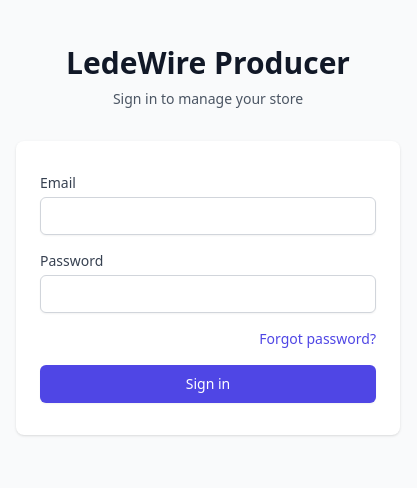
LoginForm email/password login › shows the API error message on a 403 (no merchant role)
Type "a@b.com" into the field labelled "Email" at (208, 216), box [40, 197, 376, 235]
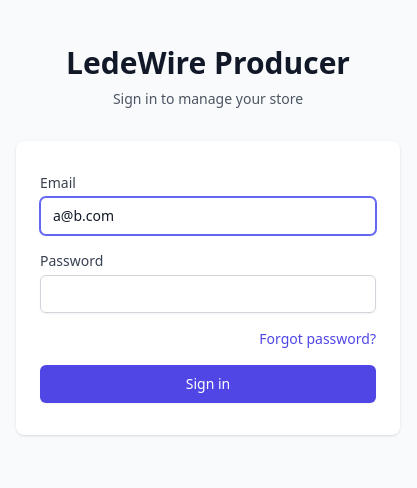
Type "secret" into the password field labelled "Password" at (208, 294), box [40, 275, 376, 313]
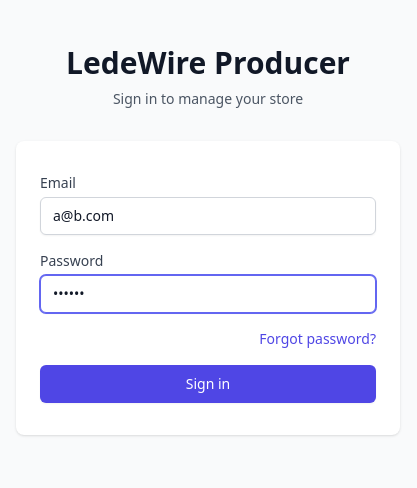
Click the button "Sign in" at (208, 384), box [40, 365, 376, 403]
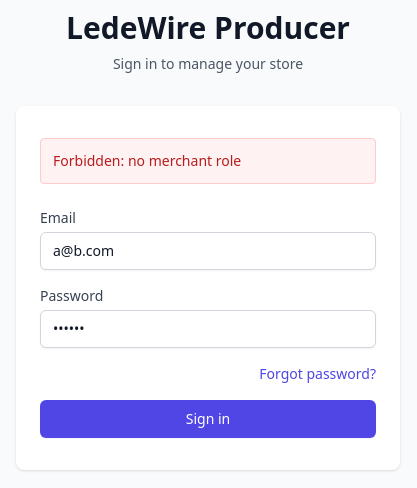
Now the text "Forbidden: no merchant role" is shown, box [40, 138, 376, 184]
